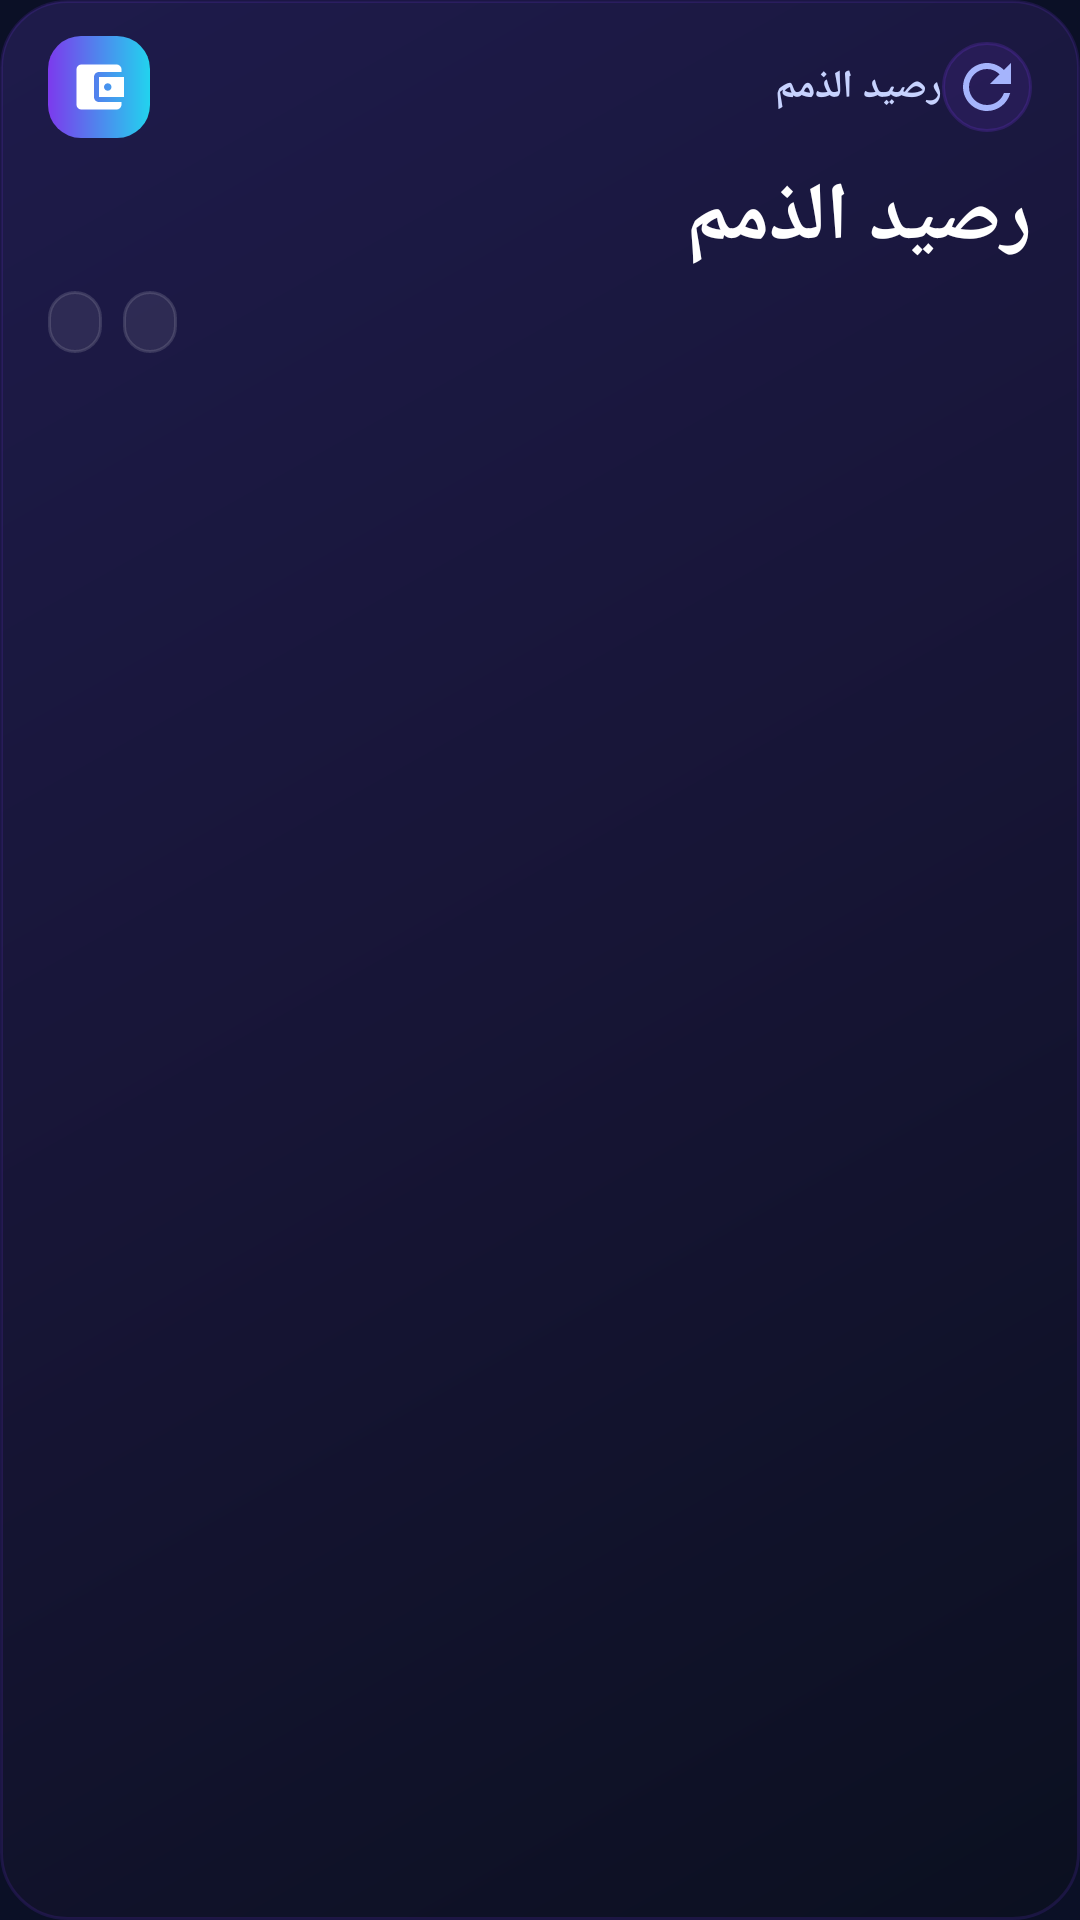

Icon bounding boxes for this 1080x1920 phone screenshot, format detection(x1, y1, x2, y2):
widget refresh: detection(942, 42, 1032, 132)
